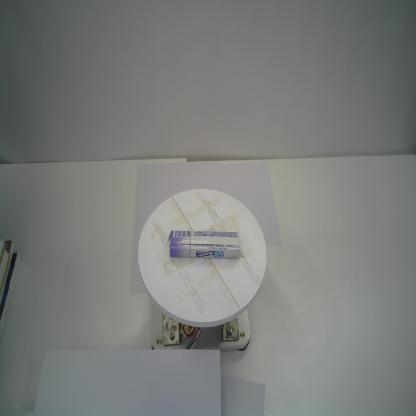Candy: (166, 226, 242, 261)
